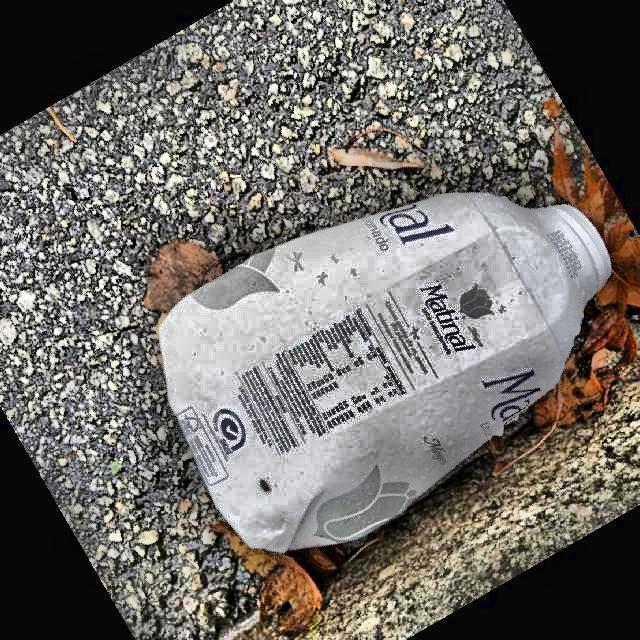plastic: (159, 194, 611, 551)
